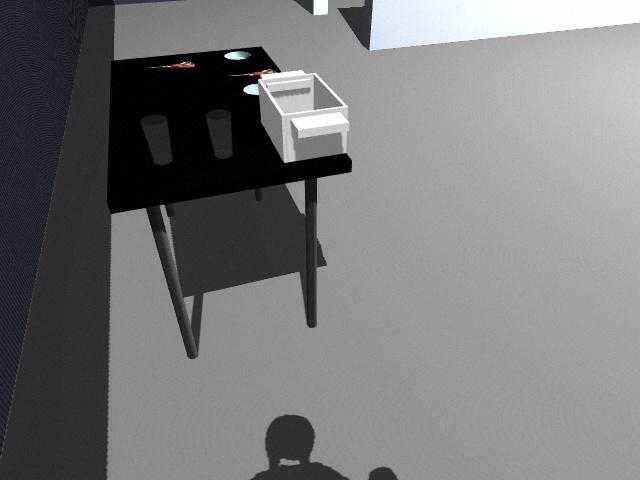cup: (140, 115, 172, 164), (205, 110, 234, 160)
plate: (224, 51, 251, 60), (243, 83, 260, 95)
scissors: (146, 61, 195, 69), (230, 70, 269, 77)
